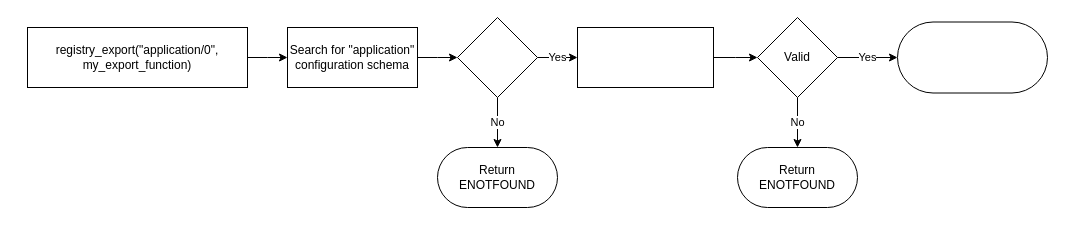
This 1074x235 diagram has some shape labels left out. The shapes that lost their labels are listed below. From the top down, each one's centre as x and y in pixels, then its label:
point 497,57: Found cs
point 645,57: Call registry_get_value() for each configuration in "application"
point 972,57: Call my_export_function on each configuration in application
